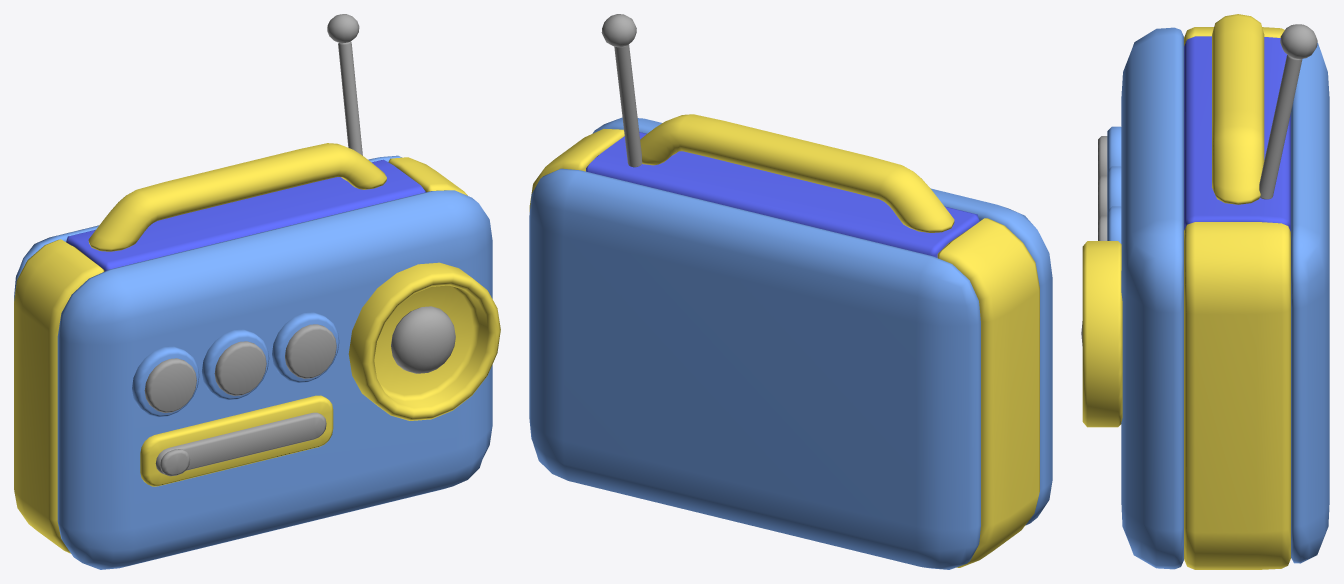
The model's file is Radio.fbx.
3 views of the same model, side by side, from view 1: azimuth 30°, elevation 25°; view 2: azimuth 150°, elevation 25°; view 3: azimuth 270°, elevation 25° (orthographic). The views are drawn at different scales.
Visible parts, largest first — view 1: S_Radio3, S_Radio11, S_Radio4, S_Radio1, S_Radio2, S_Radio14, S_Radio13, S_Radio12, S_Radio19, S_Radio7, S_Radio9, S_Radio10 (+7 smaller); view 2: S_Radio16, S_Radio4, S_Radio2, S_Radio1, S_Radio3, D_Radio, S_Radio15, D_Radio2; view 3: S_Radio15, S_Radio3, S_Radio16, S_Radio1, S_Radio2, S_Radio11, D_Radio, D_Radio2, S_Radio8, S_Radio6, S_Radio10, S_Radio4 (+2 smaller).
Boxes of the visible parts, bbox=[...] form: S_Radio3: bbox=[57, 190, 492, 569]; S_Radio11: bbox=[348, 262, 500, 420]; S_Radio4: bbox=[14, 239, 104, 553]; S_Radio1: bbox=[88, 143, 386, 251]; S_Radio2: bbox=[66, 159, 425, 271]; S_Radio14: bbox=[140, 395, 333, 486]; S_Radio13: bbox=[155, 412, 326, 474]; S_Radio12: bbox=[391, 306, 455, 373]; S_Radio19: bbox=[144, 358, 196, 412]; S_Radio7: bbox=[214, 341, 266, 395]; S_Radio9: bbox=[285, 324, 336, 378]; S_Radio10: bbox=[272, 312, 339, 383]; S_Radio16: bbox=[529, 168, 980, 569]; S_Radio4: bbox=[937, 218, 1039, 567]; S_Radio2: bbox=[586, 132, 979, 257]; S_Radio1: bbox=[640, 114, 954, 232]; S_Radio3: bbox=[592, 117, 1052, 525]; D_Radio: bbox=[614, 44, 642, 167]; S_Radio15: bbox=[529, 129, 624, 211]; D_Radio2: bbox=[601, 14, 636, 47]; S_Radio15: bbox=[1184, 222, 1290, 569]; S_Radio3: bbox=[1121, 27, 1183, 569]; S_Radio16: bbox=[1291, 43, 1329, 563]; S_Radio1: bbox=[1212, 14, 1264, 204]; S_Radio2: bbox=[1184, 36, 1290, 231]; S_Radio11: bbox=[1082, 241, 1122, 427]; D_Radio: bbox=[1259, 55, 1302, 199]; D_Radio2: bbox=[1280, 24, 1317, 58]; S_Radio8: bbox=[1107, 166, 1121, 210]; S_Radio6: bbox=[1107, 126, 1121, 170]; S_Radio10: bbox=[1107, 206, 1121, 243]; S_Radio4: bbox=[1184, 27, 1284, 45].
Size of the model in its own units: 431 by 420 by 183.
